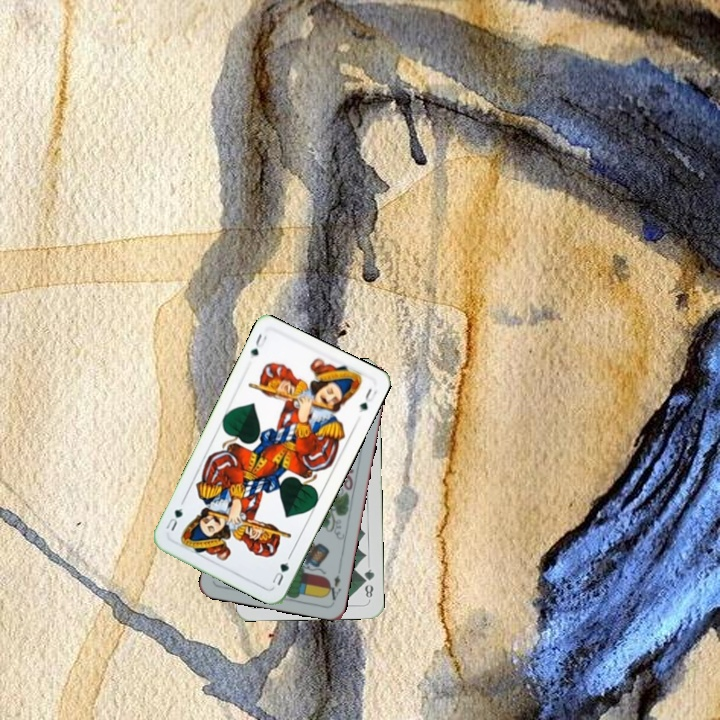EA: (323, 564, 344, 603)
G8: (359, 565, 377, 602)
GU: (267, 558, 292, 588), (246, 329, 269, 358)
